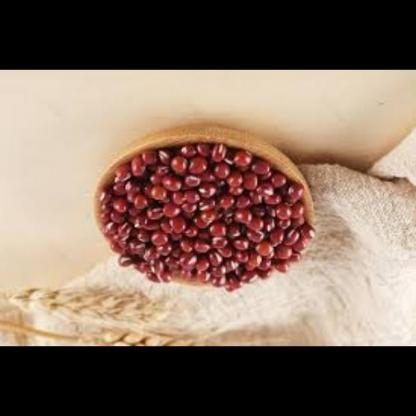fasol: (95, 132, 318, 300)
